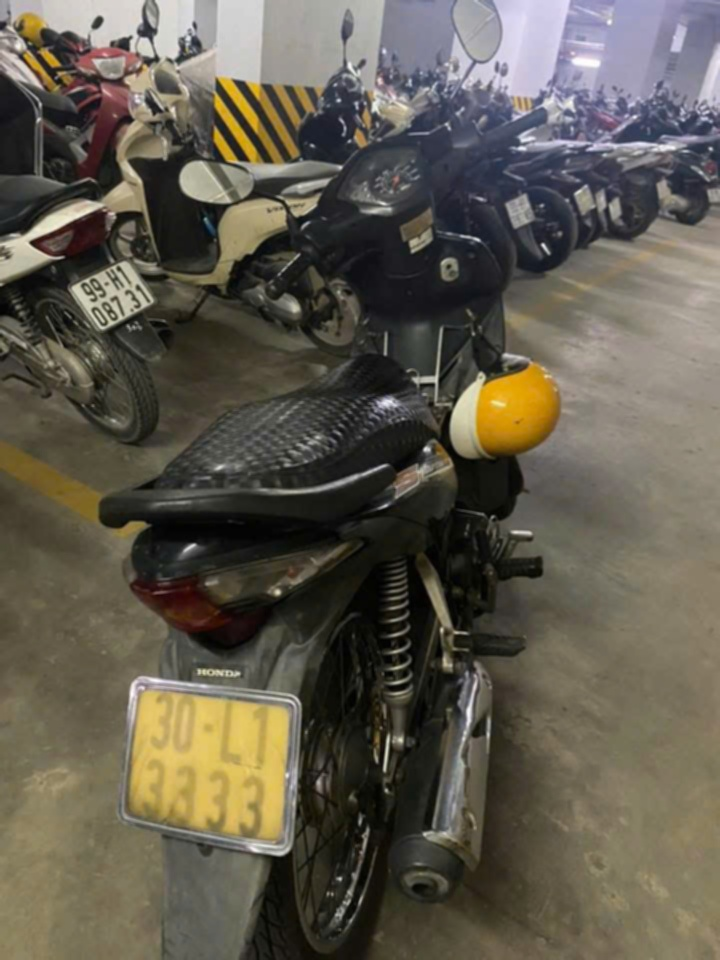Bien-so: (147, 662, 349, 873), (67, 245, 170, 336), (514, 162, 553, 205)
